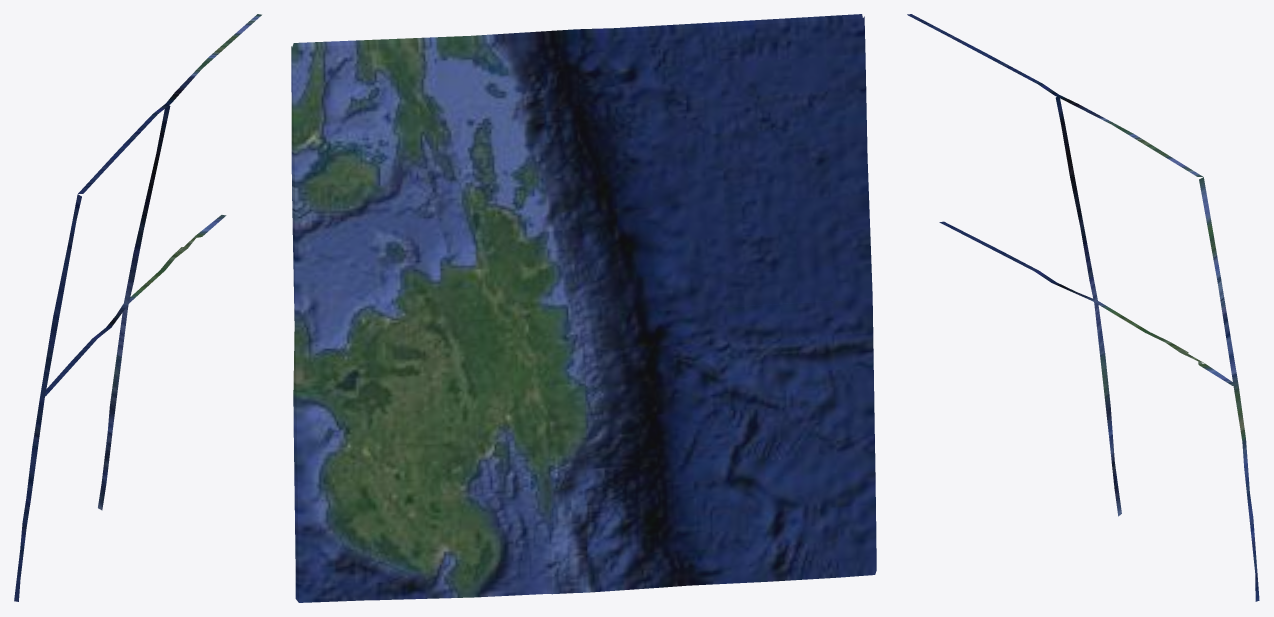
3 views of the same model, side by side, from view 1: azimuth 30°, elevation 25°; view 2: azimuth 150°, elevation 25°; view 3: azimuth 270°, elevation 25° (orthographic). The views are drawn at different scales.
Bounding box in the file's own units: 554489 × 623757 × 450994.
Materials: 1 (1 with a texture image).
